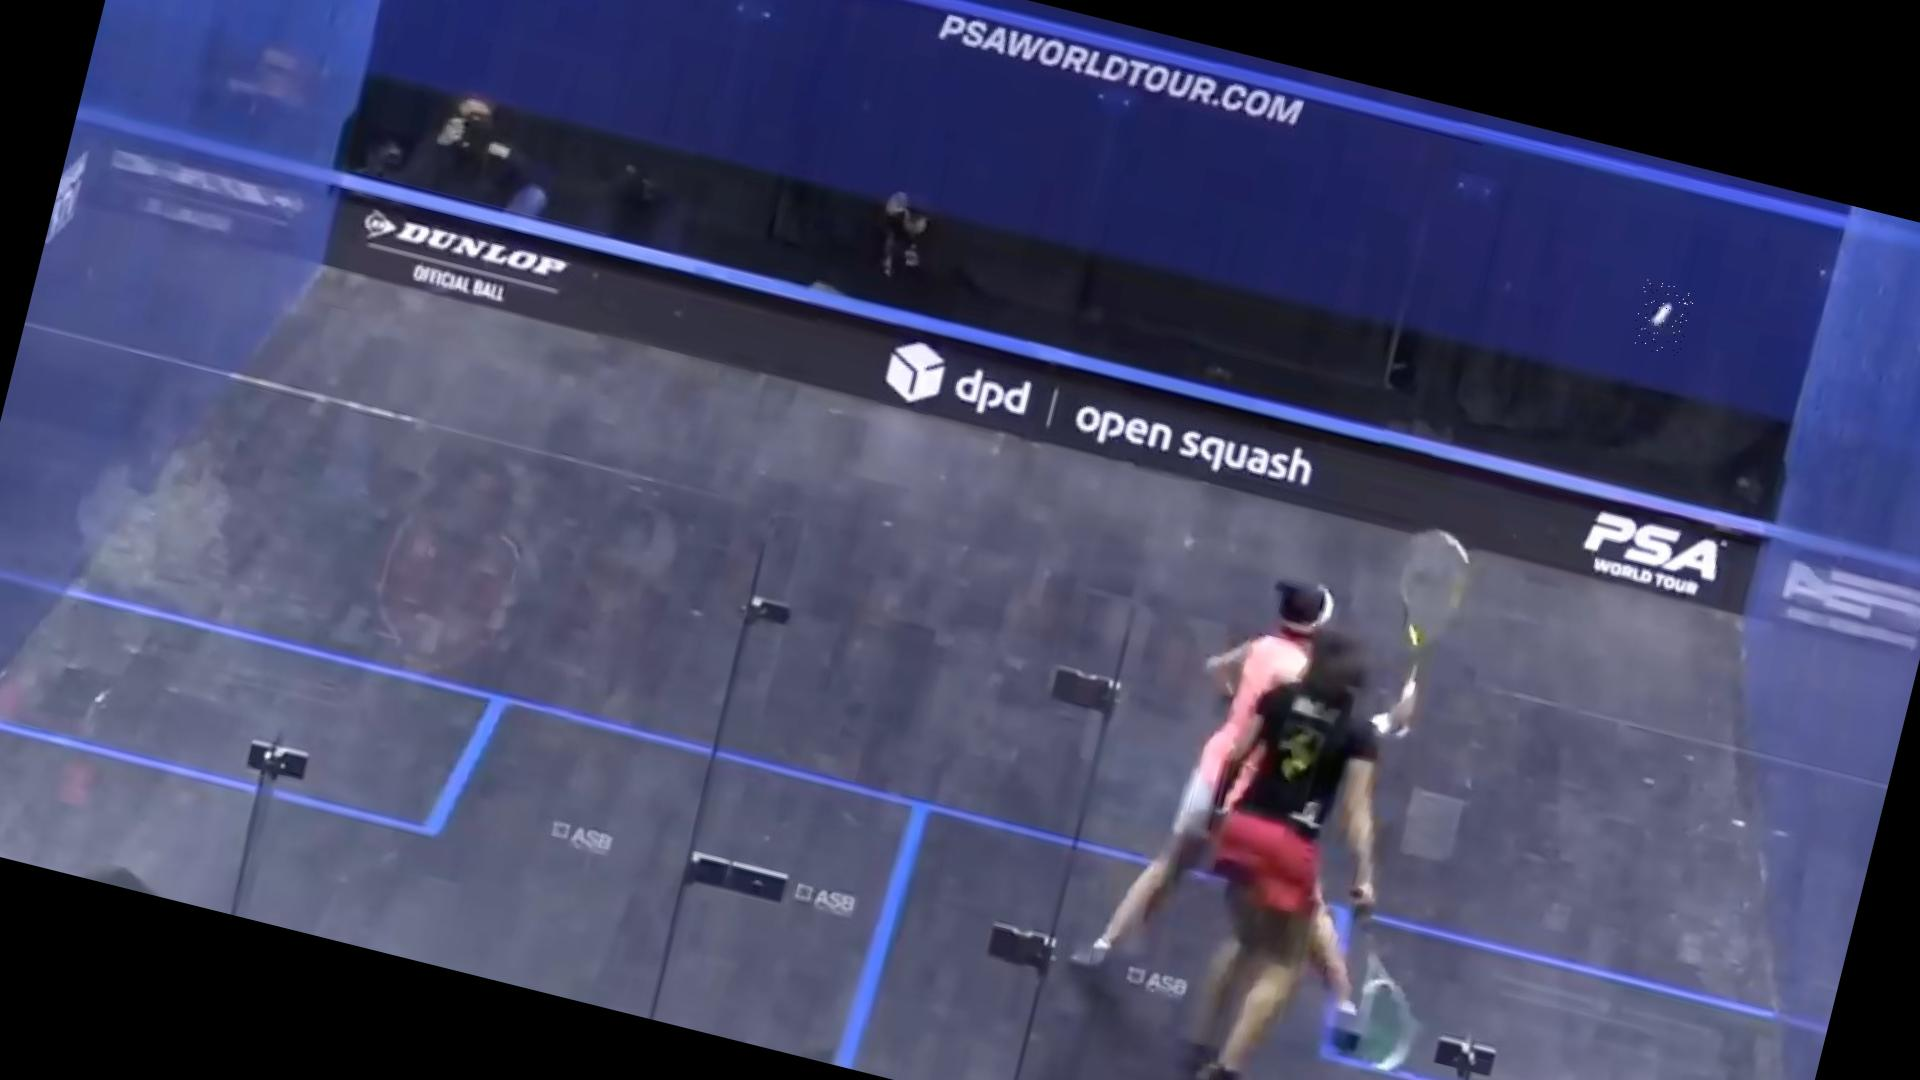Squash-Ball: (1630, 280, 1697, 359)
